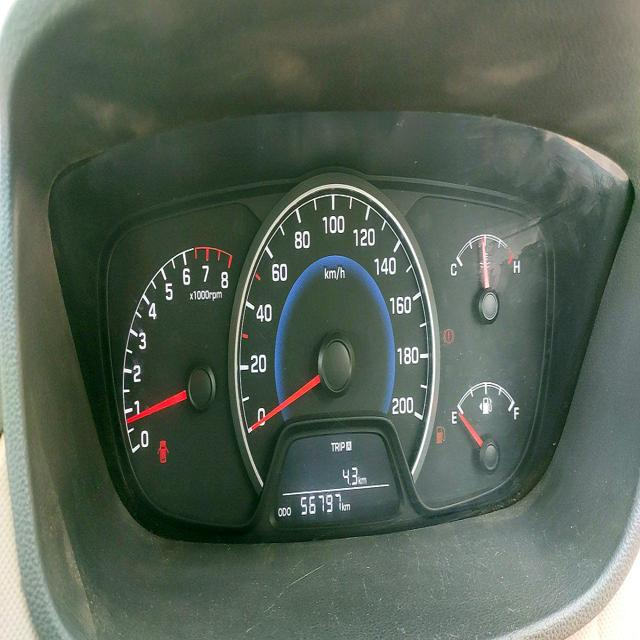odometer: (299, 489, 342, 517)
